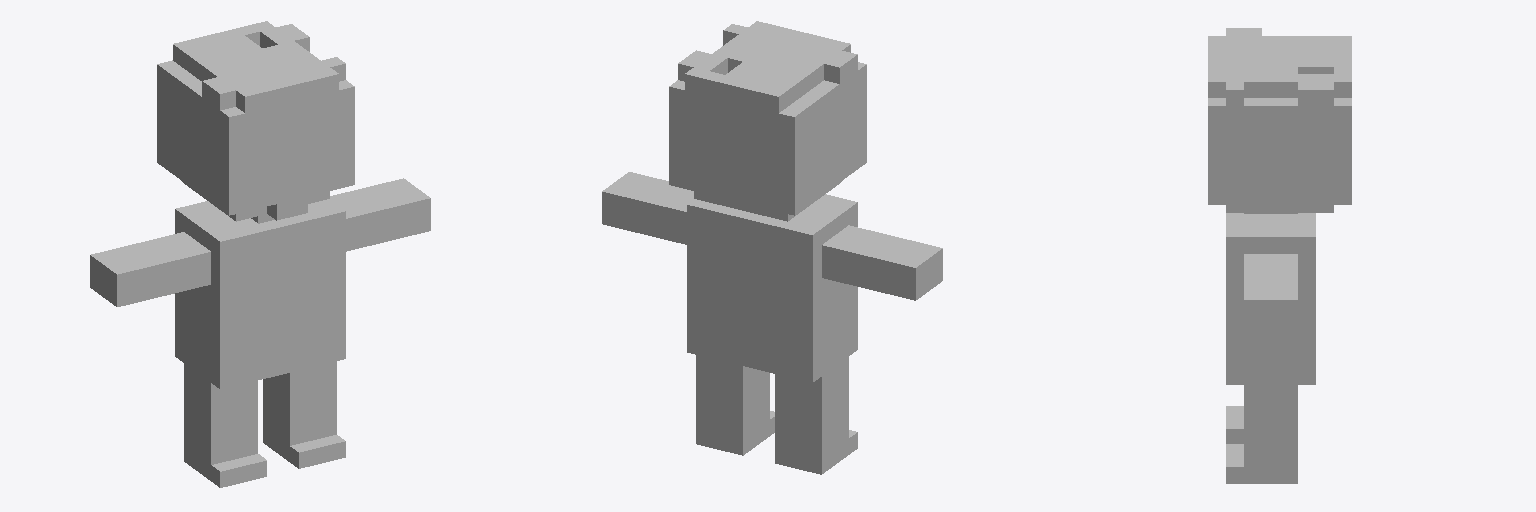
File: Zombie classique.obj
3 renders of one model, left to right at view 1: azimuth 30°, elevation 25°; view 2: azimuth 150°, elevation 25°; view 3: azimuth 270°, elevation 25°, orthographic.
Visible parts, largest first — view 1: object 1; view 2: object 1; view 3: object 1.
Part boxes in pixels (x1,y1,x2,y2): object 1: (90, 21, 430, 487); object 1: (602, 21, 942, 474); object 1: (1208, 28, 1351, 483).
Size of the model in its own units: 2 by 2.4 by 0.8.